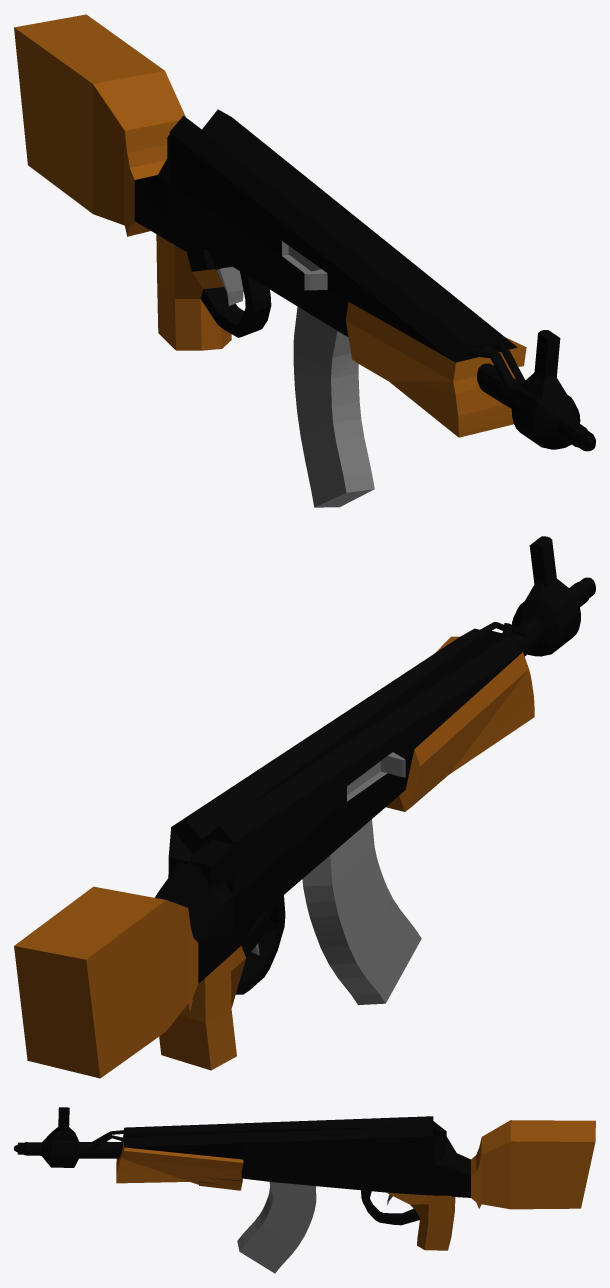
File: Gun2.fbx
The picture shows the model from 3 angles, top to bottom: view 1: azimuth 30°, elevation 25°; view 2: azimuth 150°, elevation 25°; view 3: azimuth 270°, elevation 25°; orthographic projection. The views are drawn at different scales.
Visible parts, largest first — view 1: Cube; view 2: Cube; view 3: Cube.
Boxes of the visible parts, <box> form: Cube: <box>14,14,595,507</box>; Cube: <box>14,536,595,1078</box>; Cube: <box>14,1107,595,1273</box>.
Bounding box in the file's own units: 118 × 400 × 1246.
